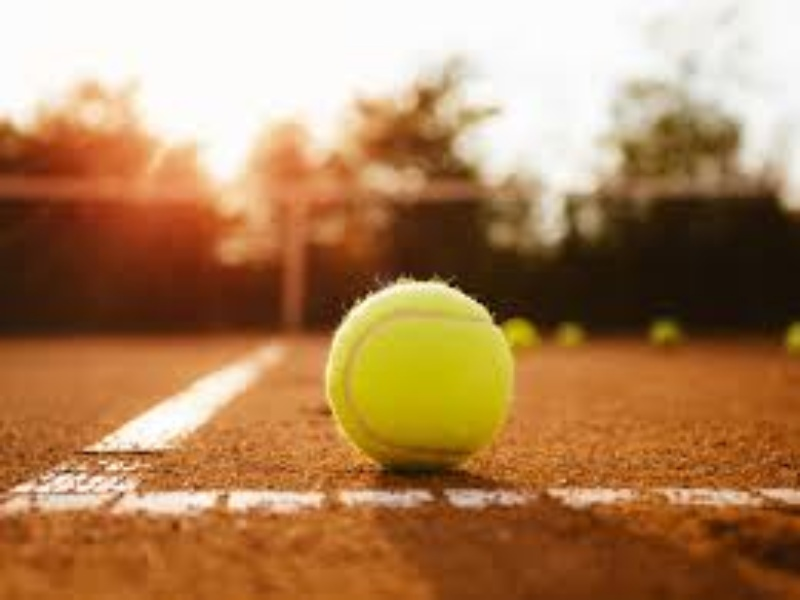tennis ball: (323, 264, 513, 466)
